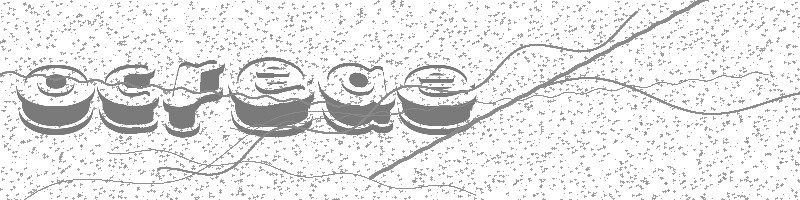a: (316, 61, 396, 135)
c: (95, 61, 162, 136)
e: (226, 56, 316, 138), (397, 63, 476, 136)
o: (12, 61, 96, 136)
r: (162, 59, 226, 138)
